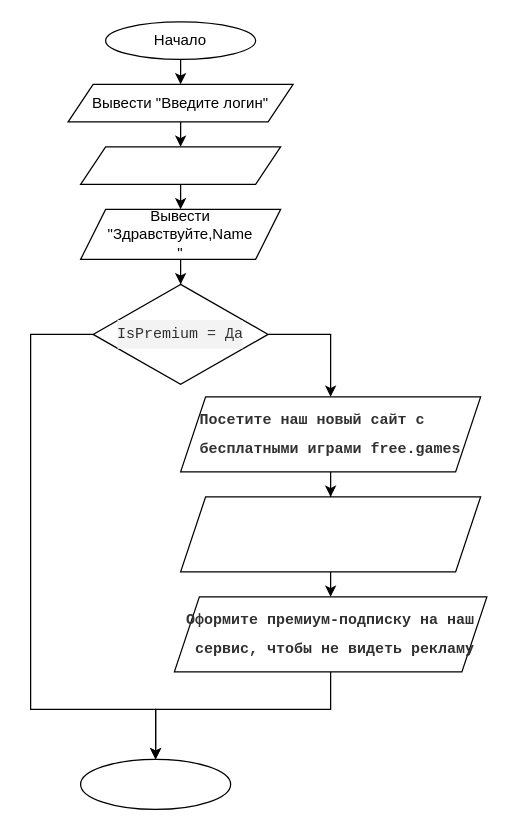
The diagram is 509 pixels wide and 831 high, and some of its shapes have lost their labels. Here are the shapes that lost their labels. From the top down, the centre of each, then its label:
At point 180,165: "Считать Login, найти пользователя".
At point 330,534: "Купите подписку на МыКомбо и слушайте музыку везде и всегда.".
At point 155,783: "Конец".
